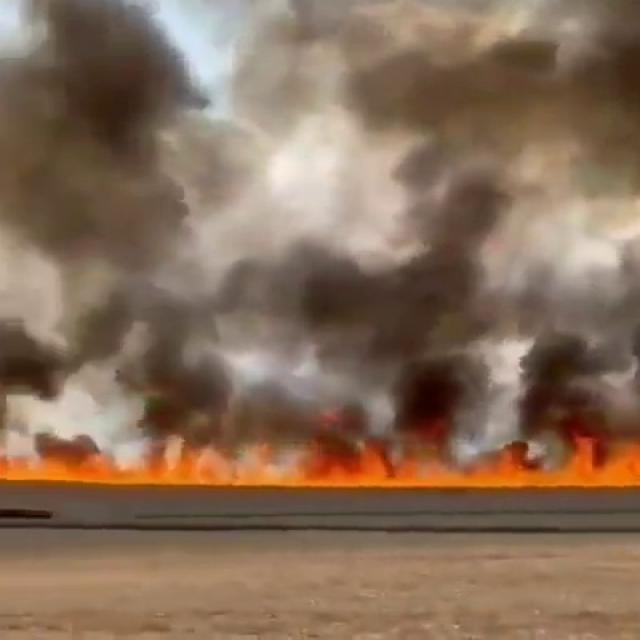Fire: (0, 439, 640, 488)
Smoke: (0, 0, 640, 480)
